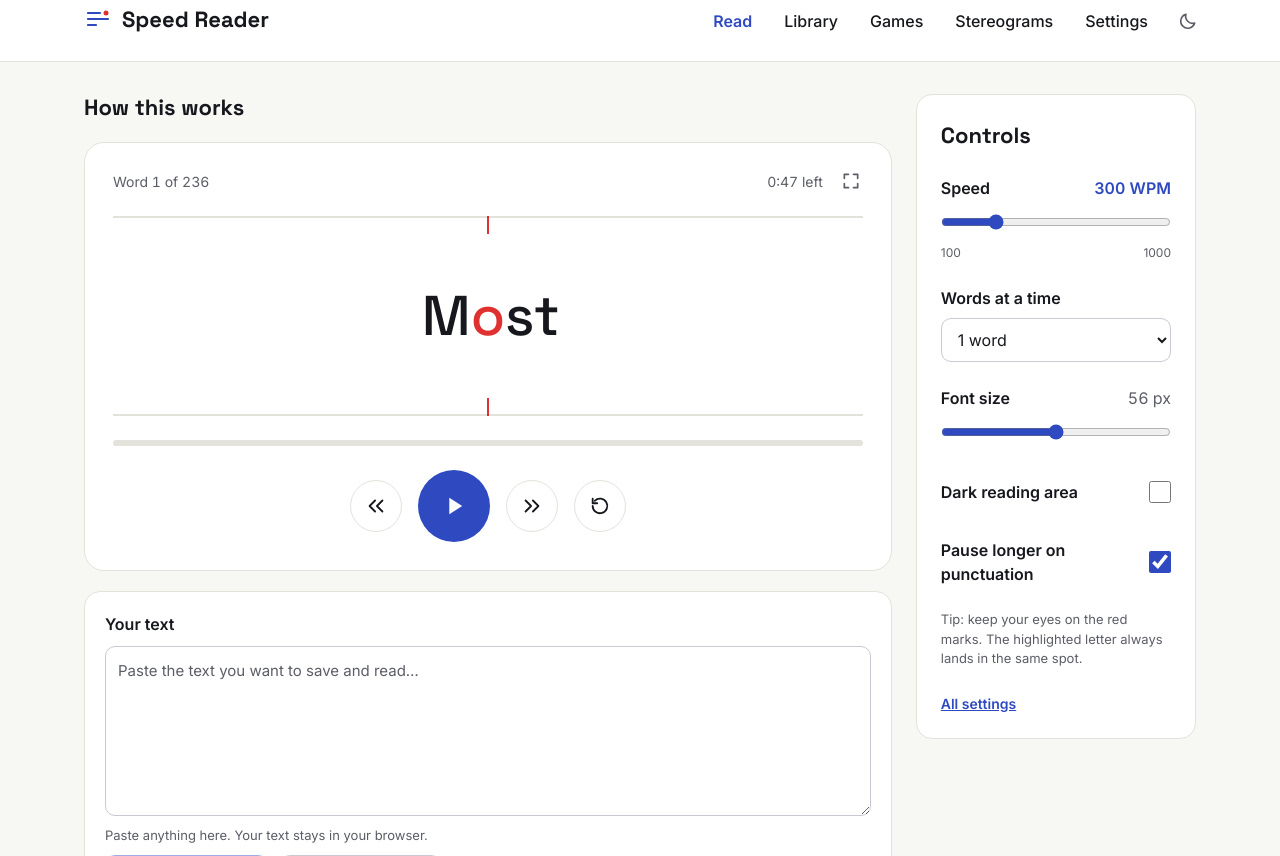
Test case: adding text › saves pasted text and goes to the library, where it can be opened to read
Type "Steady pace wins. Every time." into the text box labelled "Your text" at {"x": 488, "y": 730}, box [105,646,871,816]
(page scrolled)
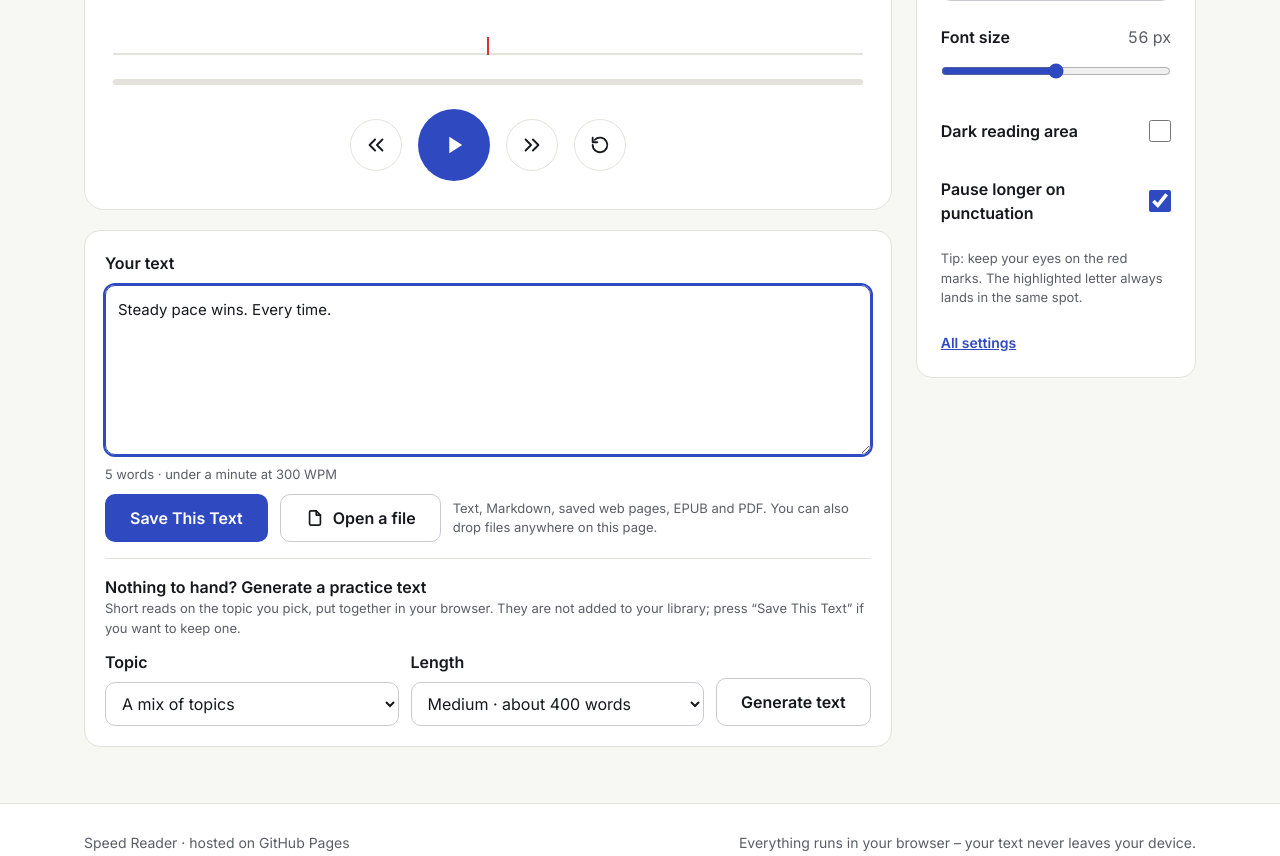
Expected: the text "5 words · under a minute at 300 WPM" is shown, [105,466,337,482]
Click the button "Save This Text" at {"x": 186, "y": 518}, box [105,494,268,542]
(page scrolled)
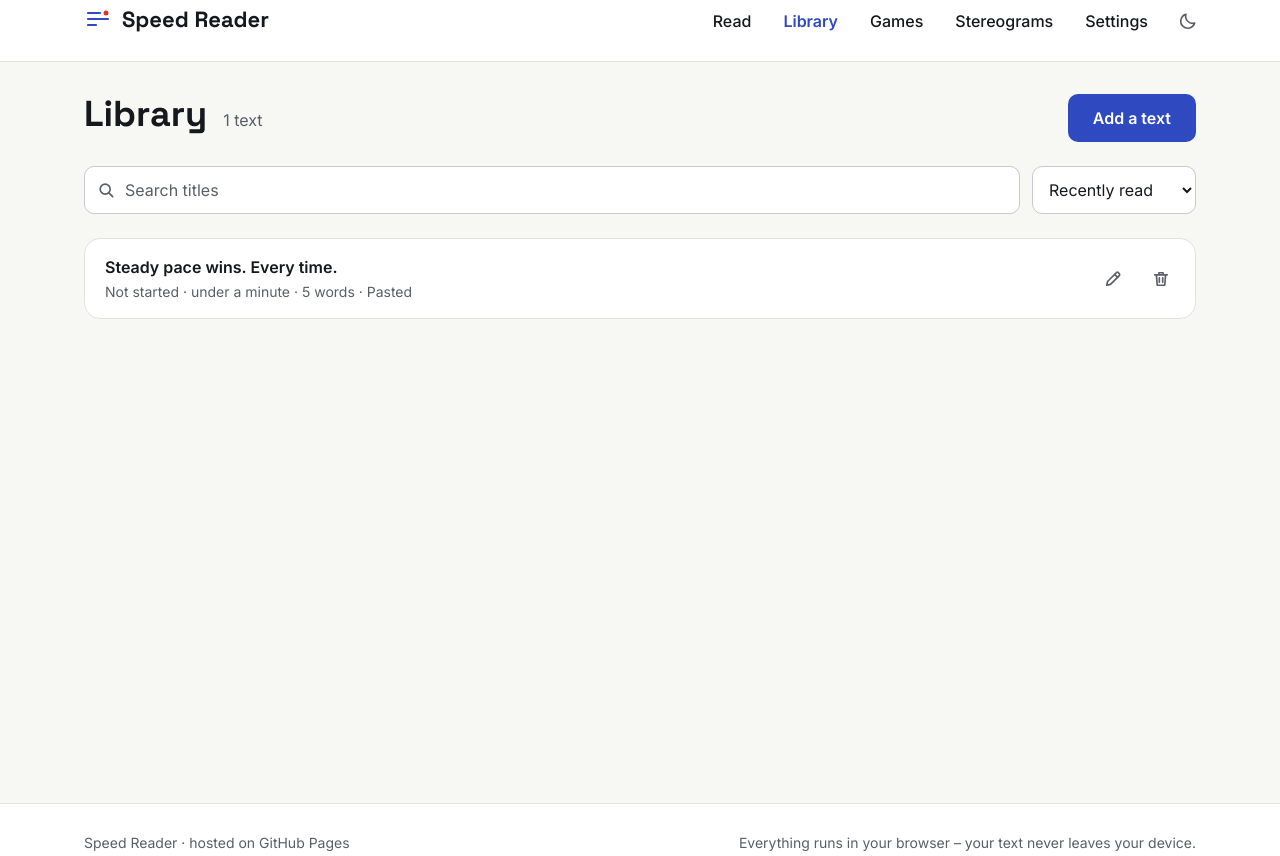
# Opening it from there reads it.
Click the link "Steady pace wins. Every time." at {"x": 259, "y": 278}, box [105,257,412,300]
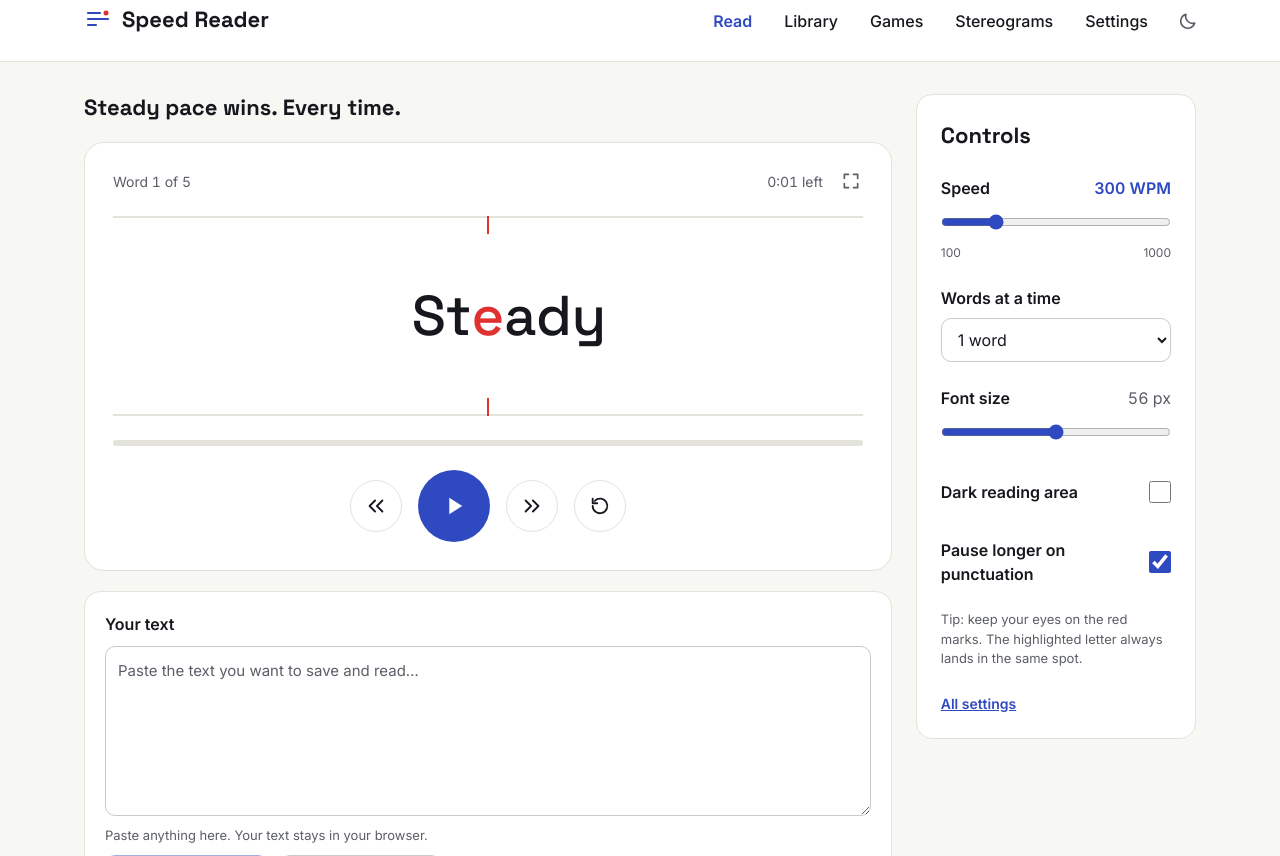
Expected: the element with test id "stage-word" reads "St e ady", [412,280,606,351]
Expected: the text box labelled "Your text" is empty, [105,646,871,816]
